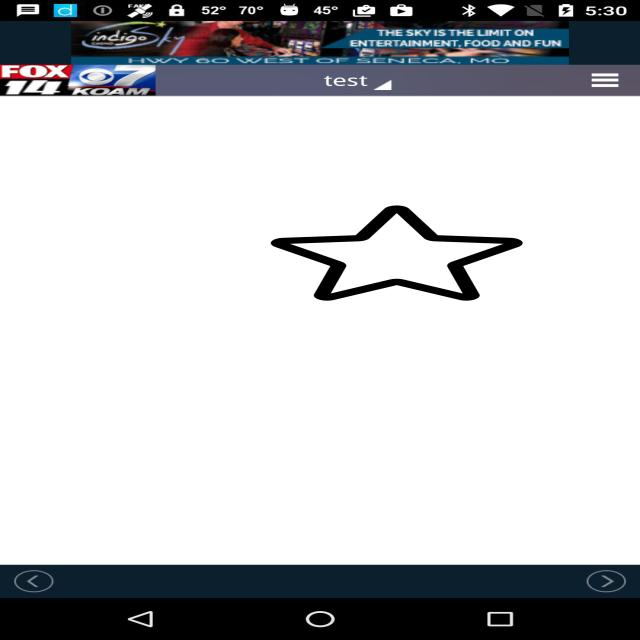forced continuity: (270, 203, 522, 303)
